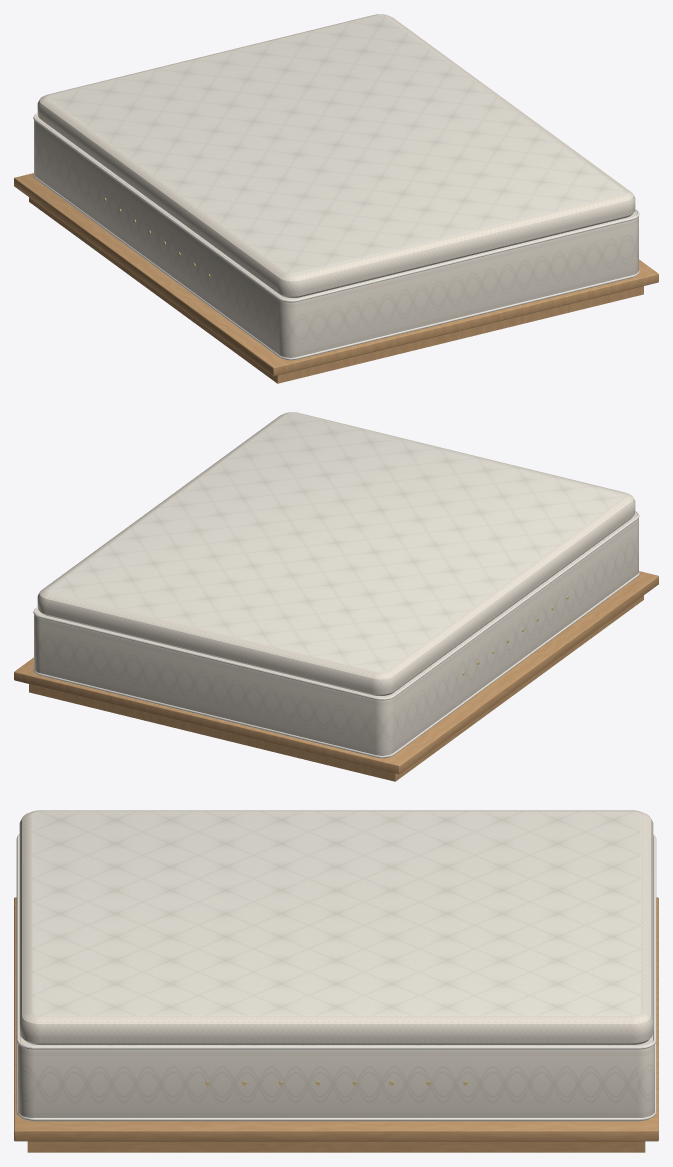
Rendered from bed_lowb_velluce_k.glb.
3 views of the same model, one above another, from view 1: azimuth 30°, elevation 25°; view 2: azimuth 150°, elevation 25°; view 3: azimuth 270°, elevation 25° (orthographic). The views are drawn at different scales.
Parts seen in each view (by area): view 1: bed_lowb_velluce_k; view 2: bed_lowb_velluce_k; view 3: bed_lowb_velluce_k.
Part boxes in pixels (left/top/right/bottom): bed_lowb_velluce_k: left=14, top=14, right=658, bottom=383; bed_lowb_velluce_k: left=14, top=412, right=658, bottom=781; bed_lowb_velluce_k: left=14, top=810, right=658, bottom=1152.
Size of the model in its own units: 1.8 by 0.46 by 2.1.
Materials: 7 (5 with a texture image).
